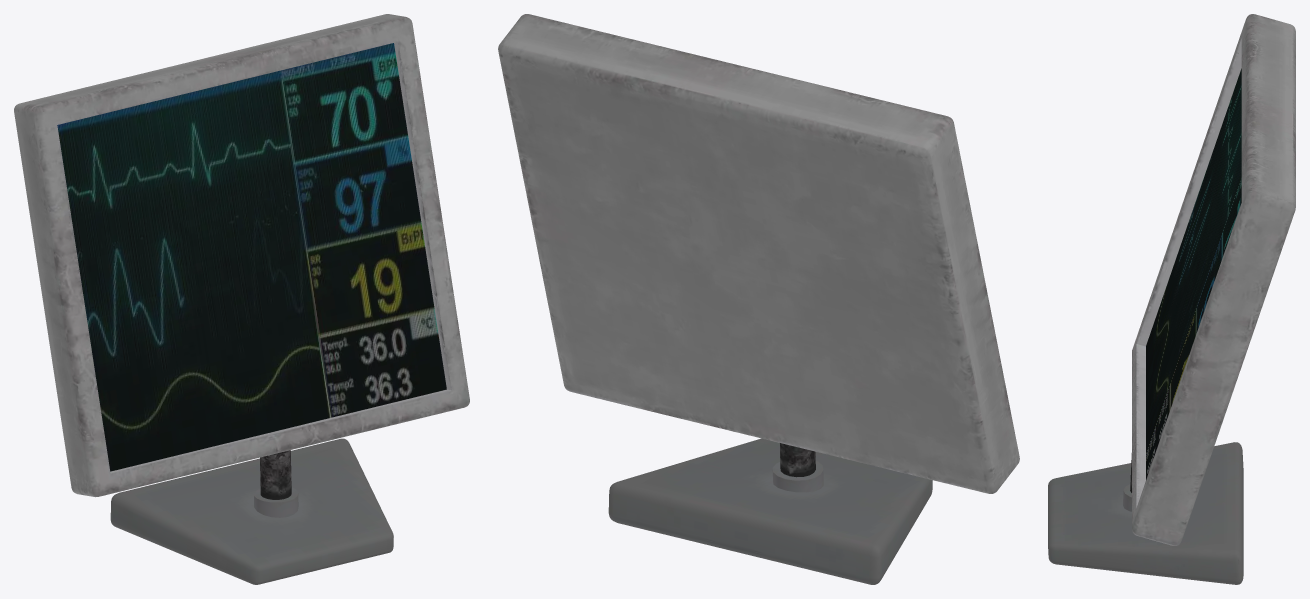
The model's file is monitor-hr.glb.
3 renders of one model, left to right at view 1: azimuth 30°, elevation 25°; view 2: azimuth 150°, elevation 25°; view 3: azimuth 270°, elevation 25°, orthographic. The views are drawn at different scales.
Parts seen in each view (by area): view 1: SM_monitor#, SM_monitor_stand; view 2: SM_monitor#, SM_monitor_stand; view 3: SM_monitor#, SM_monitor_stand.
Part boxes in pixels (x1,y1,x2,y2): SM_monitor#: (14,14,469,497); SM_monitor_stand: (110,438,393,584); SM_monitor#: (498,14,1019,493); SM_monitor_stand: (608,438,932,584); SM_monitor#: (1132,14,1295,545); SM_monitor_stand: (1048,442,1243,584).
Size of the model in its own units: 43.88 by 47.98 by 25.13.
Materials: 1 (1 with a texture image).
